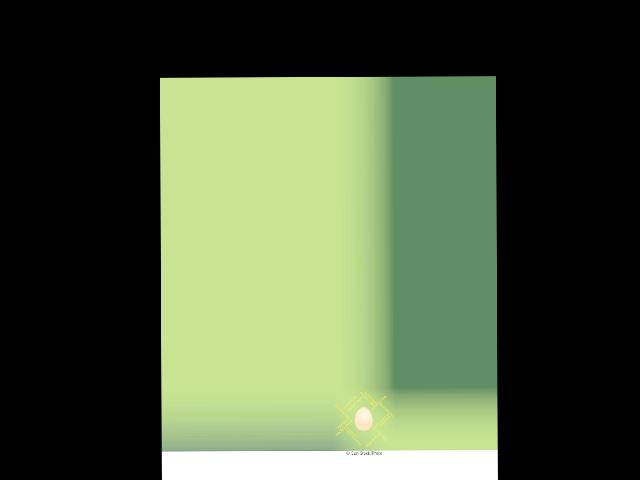egg: (355, 407, 372, 430)
